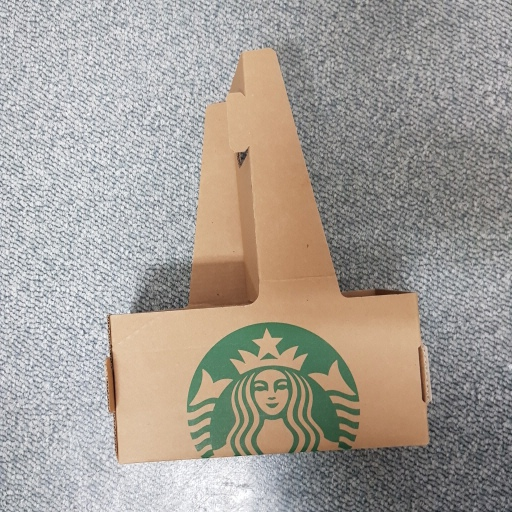Paper_0: (80, 44, 448, 471)
